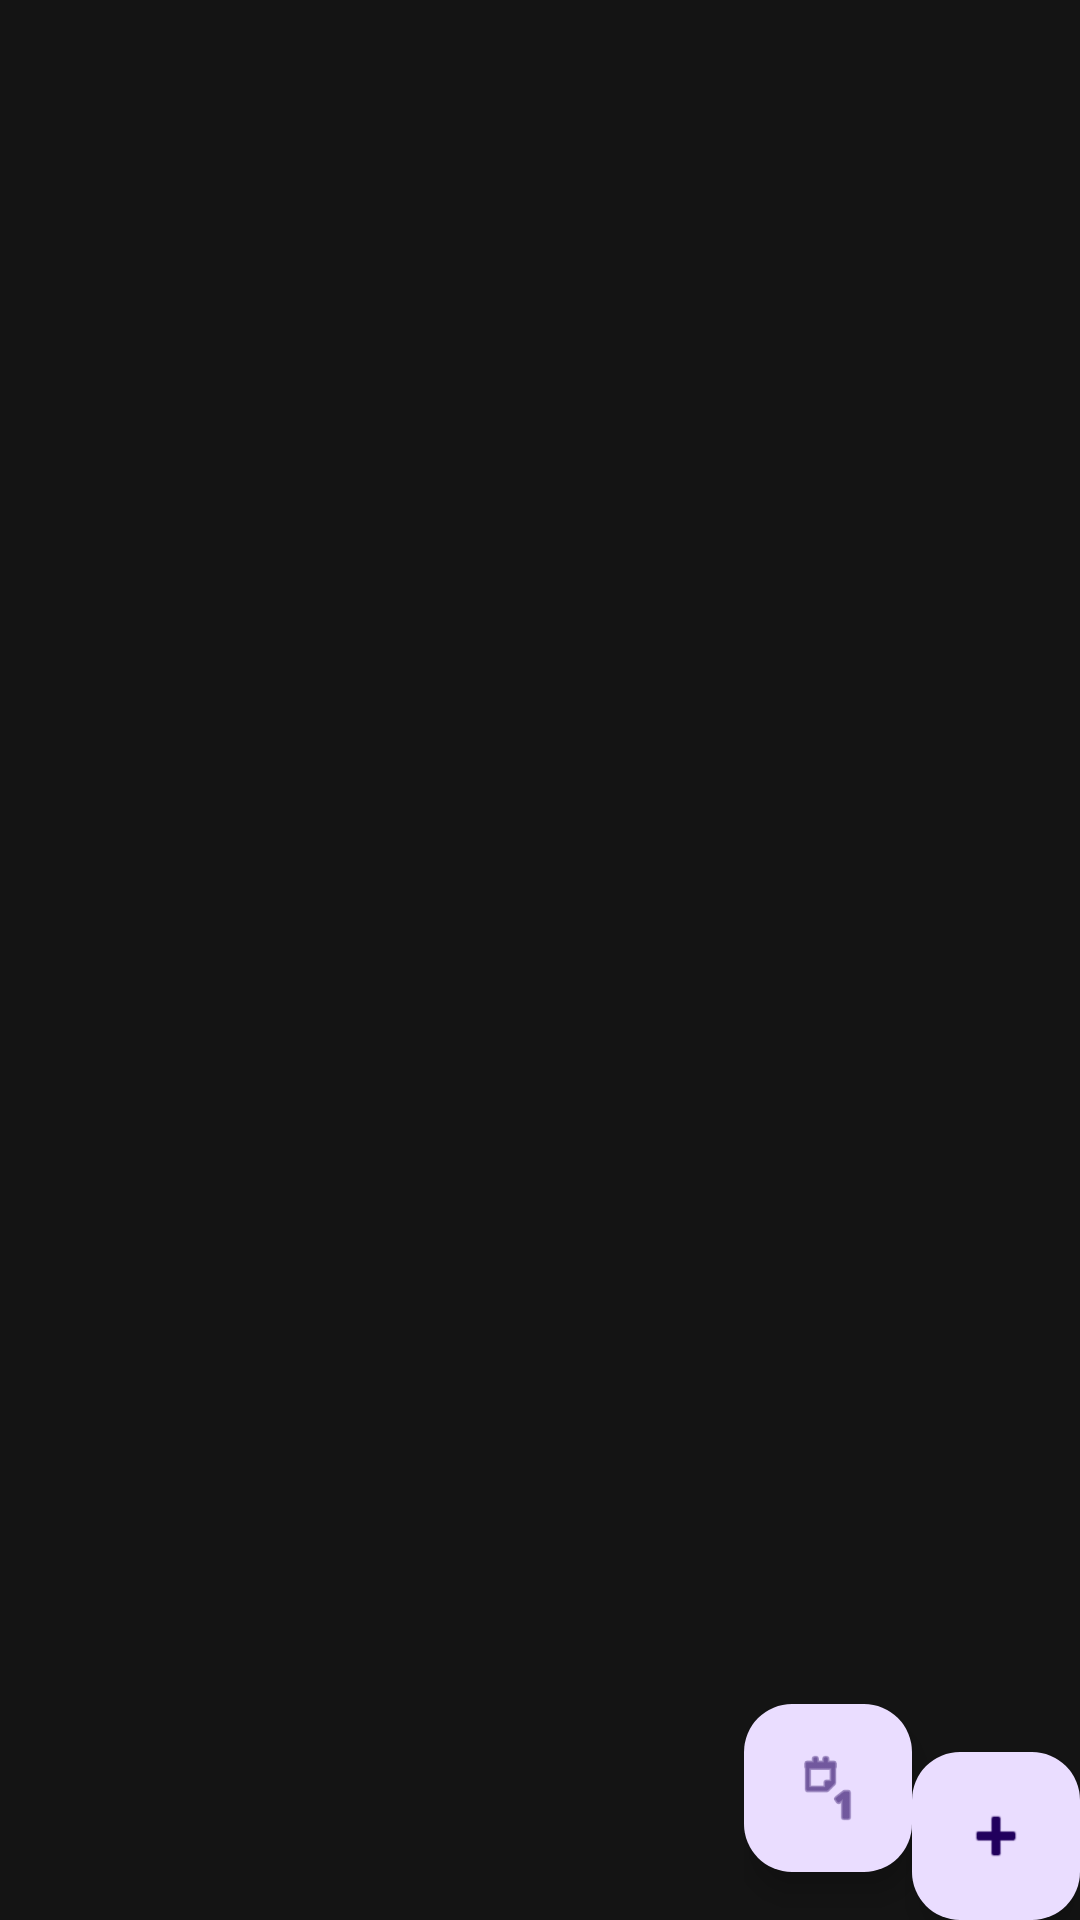

Icons on this 1080×1920 Android screen, each with its box as rect(x1, y1, x2, y2):
add: rect(912, 1752, 1080, 1920)
day: rect(744, 1704, 912, 1872)
